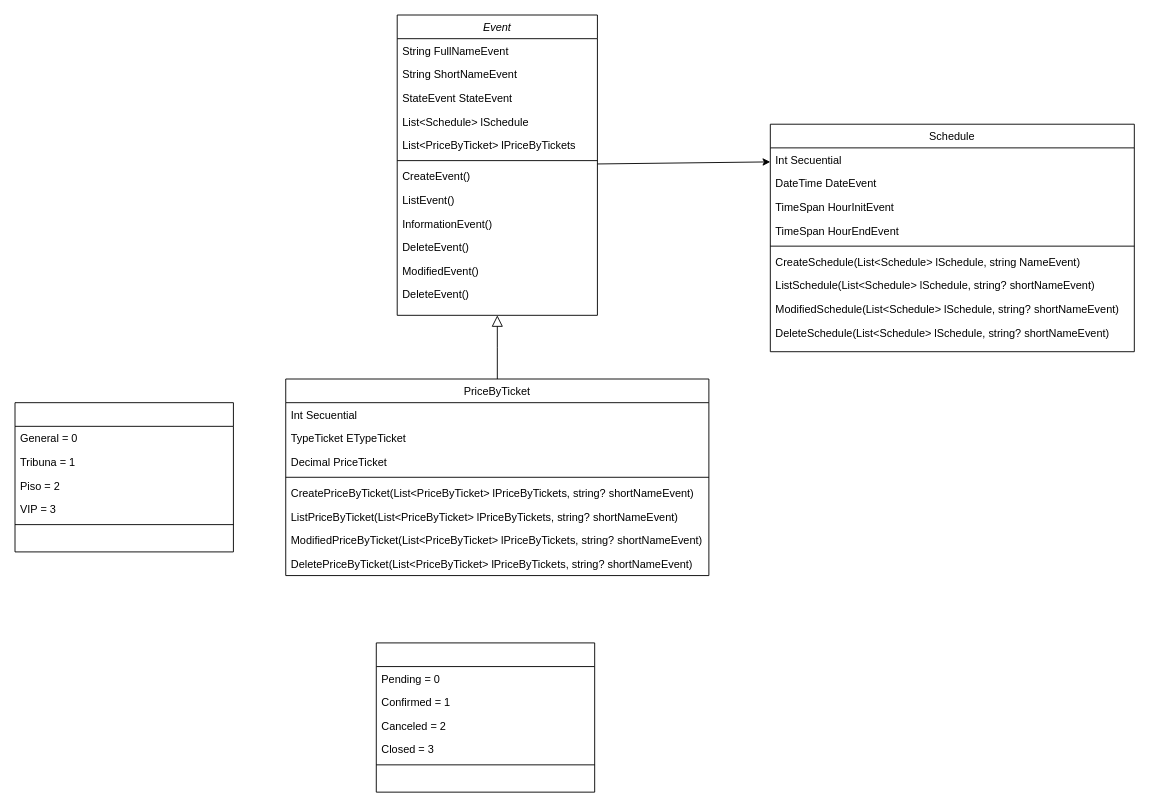
The diagram is 1149 pixels wide and 807 high, and some of its shapes have lost their labels. Each missing label, with the box of its shape:
StateEvent: (375, 642, 595, 792)
TypeTicket: (14, 402, 233, 552)
